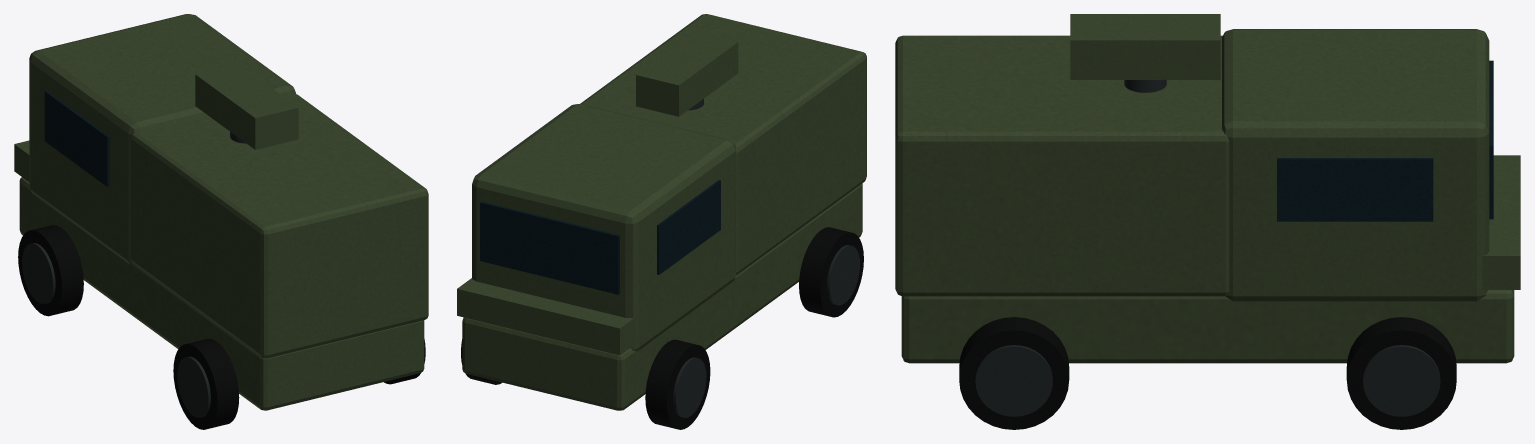
The picture shows the model from 3 angles, left to right: view 1: azimuth 30°, elevation 25°; view 2: azimuth 150°, elevation 25°; view 3: azimuth 270°, elevation 25°; orthographic projection. The views are drawn at different scales.
Parts seen in each view (by area): view 1: Hull_MVP olive paint, RunningGear_MVP rubber, Hull_MVP optical glass, RunningGear_MVP exposed metal; view 2: Hull_MVP olive paint, Hull_MVP optical glass, RunningGear_MVP rubber, RunningGear_MVP exposed metal; view 3: Hull_MVP olive paint, RunningGear_MVP rubber, Hull_MVP optical glass, RunningGear_MVP exposed metal.
Boxes of the visible parts, <box> form: Hull_MVP olive paint: <box>14,14,428,410</box>; RunningGear_MVP rubber: <box>18,225,425,429</box>; Hull_MVP optical glass: <box>44,91,109,186</box>; RunningGear_MVP exposed metal: <box>22,243,210,417</box>; Hull_MVP olive paint: <box>457,14,866,410</box>; Hull_MVP optical glass: <box>480,180,720,294</box>; RunningGear_MVP rubber: <box>461,227,863,429</box>; RunningGear_MVP exposed metal: <box>673,245,859,417</box>; Hull_MVP olive paint: <box>895,14,1520,363</box>; RunningGear_MVP rubber: <box>959,317,1456,429</box>; Hull_MVP optical glass: <box>1277,60,1493,221</box>; RunningGear_MVP exposed metal: <box>975,345,1440,416</box>.
Size of the model in its own units: 2.46 by 3 by 5.
4 materials, 4 textured.
